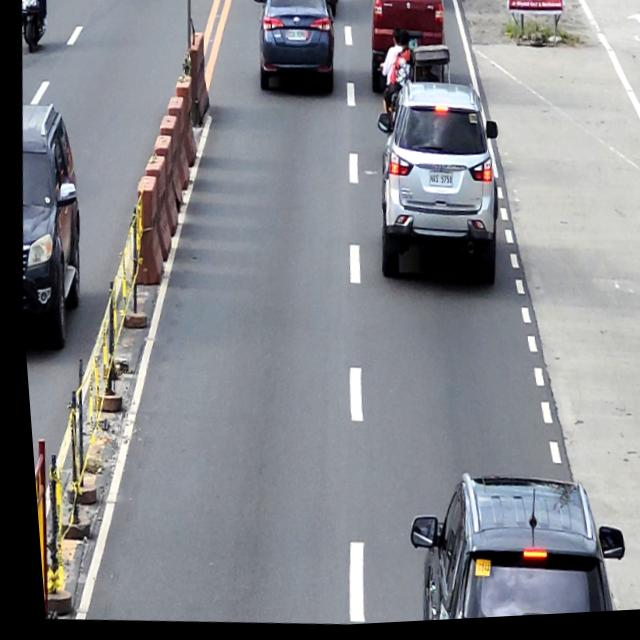Car: (391, 466, 624, 625), (361, 79, 507, 294), (6, 98, 91, 351), (245, 0, 340, 99), (363, 0, 450, 101)
License-Plate: (425, 174, 451, 193), (286, 31, 305, 44)
Motorcycle: (18, 0, 51, 54)
